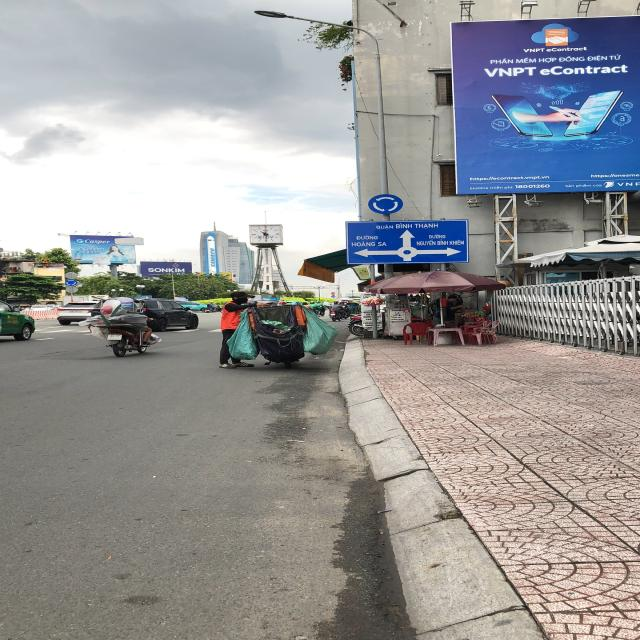Bien bao noi giao nhau chay theo vong xuyen: (367, 192, 406, 215)
